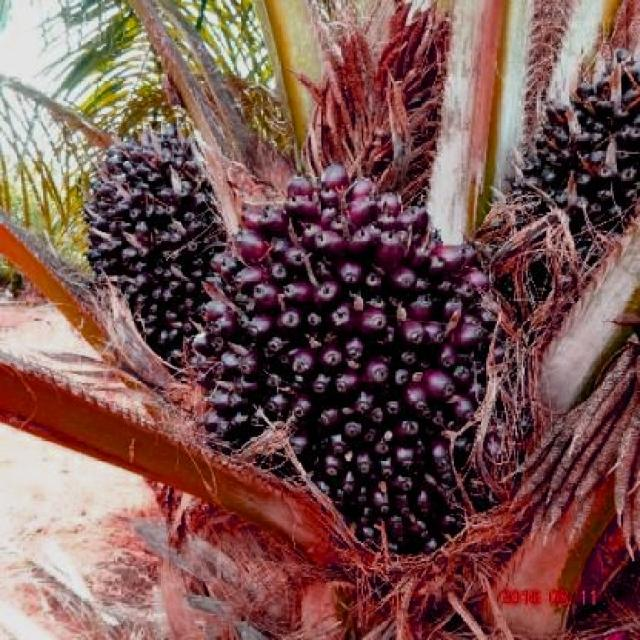palm-oil: (184, 158, 519, 580), (61, 123, 242, 359), (523, 26, 640, 239)
